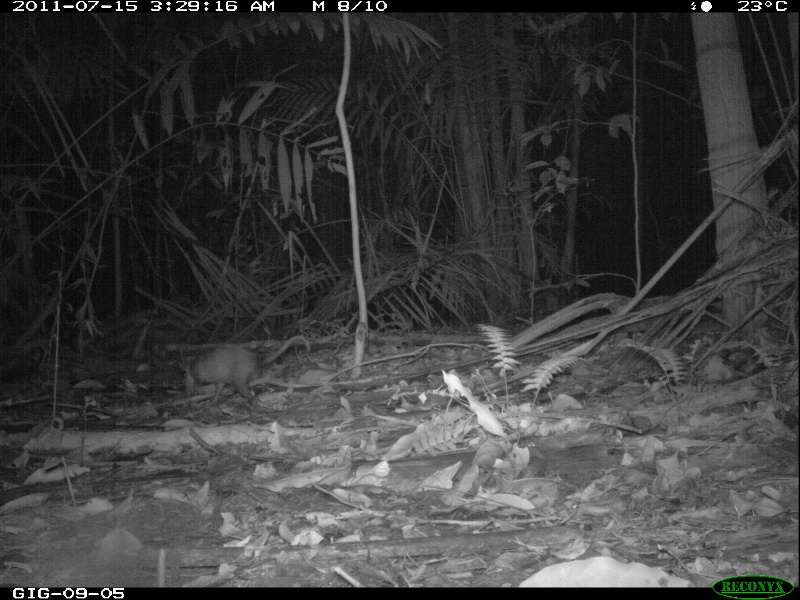opossum: (178, 332, 312, 406)
